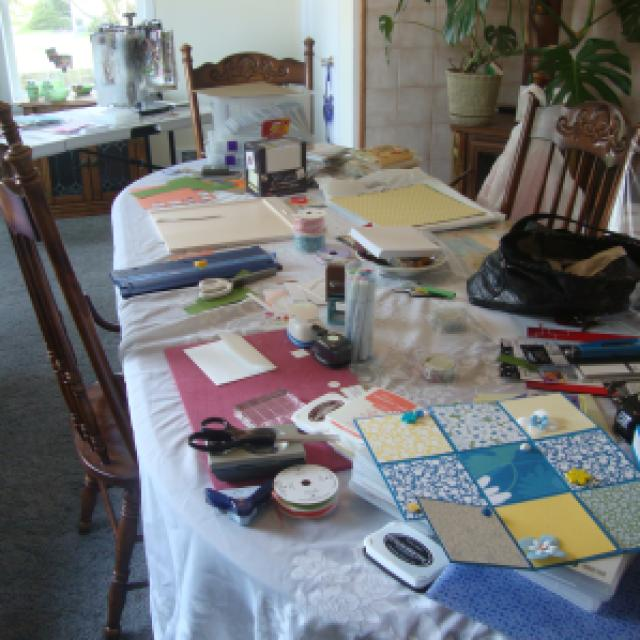mess: (107, 109, 640, 638)
